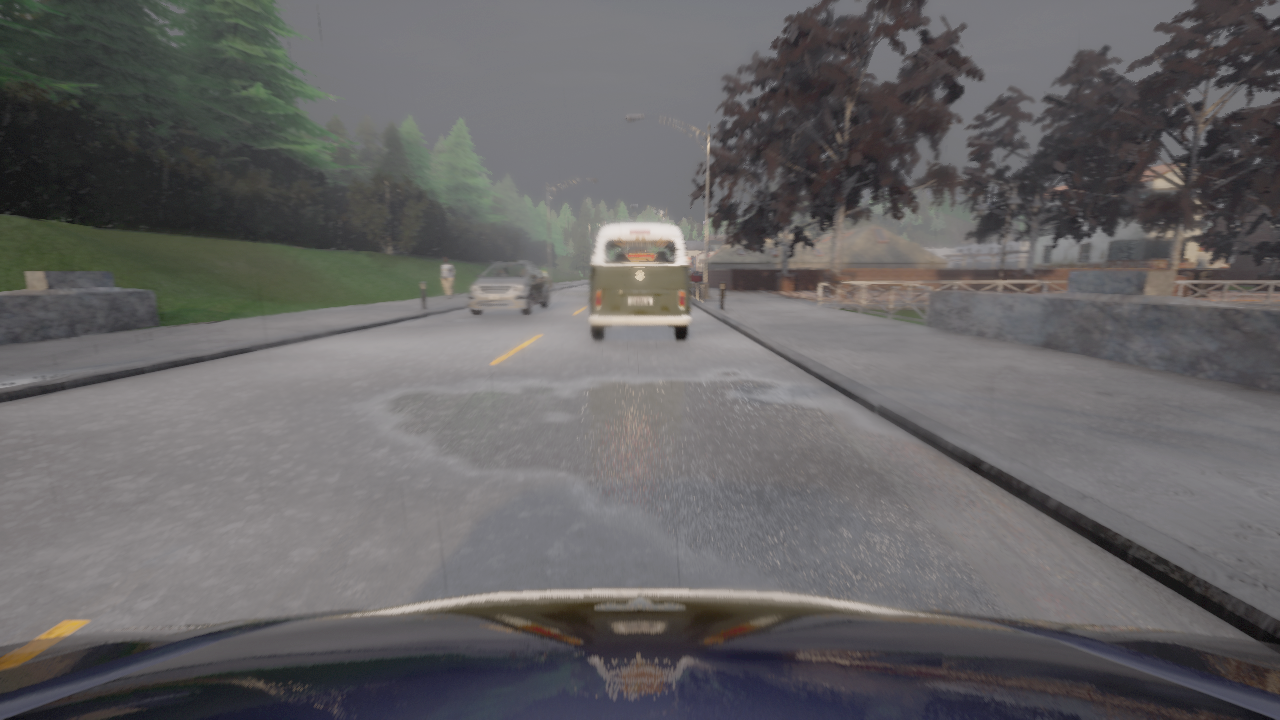cyclist: (0, 588, 1279, 719), (588, 223, 691, 340), (467, 261, 549, 315), (690, 271, 702, 282)
pedestrian: (440, 257, 455, 297), (541, 265, 548, 280)
